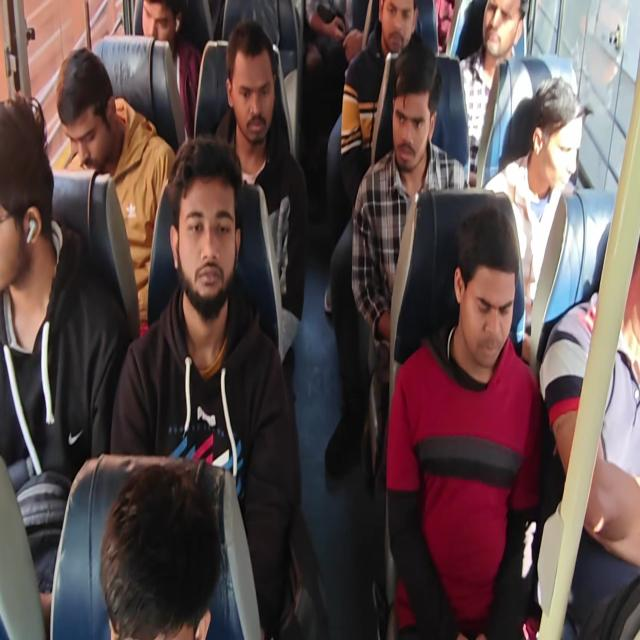person: (112, 478, 213, 640), (162, 155, 238, 310), (0, 93, 52, 293), (53, 62, 108, 195), (459, 240, 515, 363), (389, 72, 437, 182), (535, 89, 585, 194), (236, 36, 274, 139), (123, 0, 177, 63), (479, 0, 518, 63), (381, 0, 414, 71)
